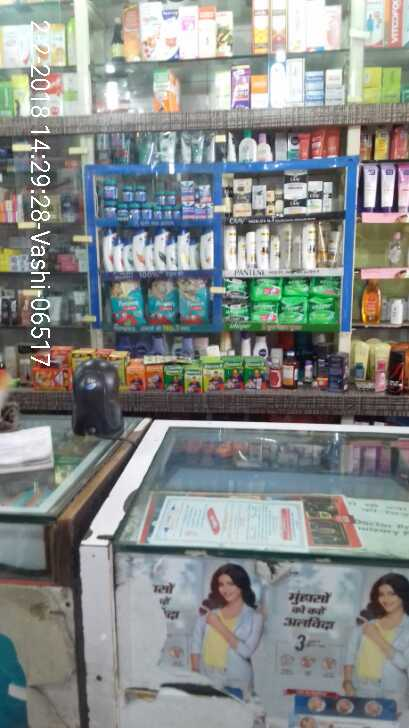beauty: (254, 223, 271, 268), (233, 177, 252, 216), (303, 221, 318, 269), (177, 227, 191, 269), (134, 227, 148, 269), (283, 169, 308, 192), (283, 193, 307, 212), (253, 185, 267, 214)
pharmacy: (174, 277, 210, 320), (111, 281, 145, 323), (144, 279, 175, 323), (305, 299, 340, 324), (250, 277, 281, 302), (310, 275, 342, 299), (281, 275, 311, 298), (277, 300, 307, 322), (224, 276, 251, 300), (119, 182, 147, 203), (250, 301, 277, 322), (224, 303, 251, 323), (154, 188, 176, 208), (180, 180, 195, 199), (101, 181, 115, 200), (181, 201, 194, 220), (126, 205, 141, 221), (139, 205, 152, 221), (194, 204, 206, 219), (117, 205, 128, 221)
